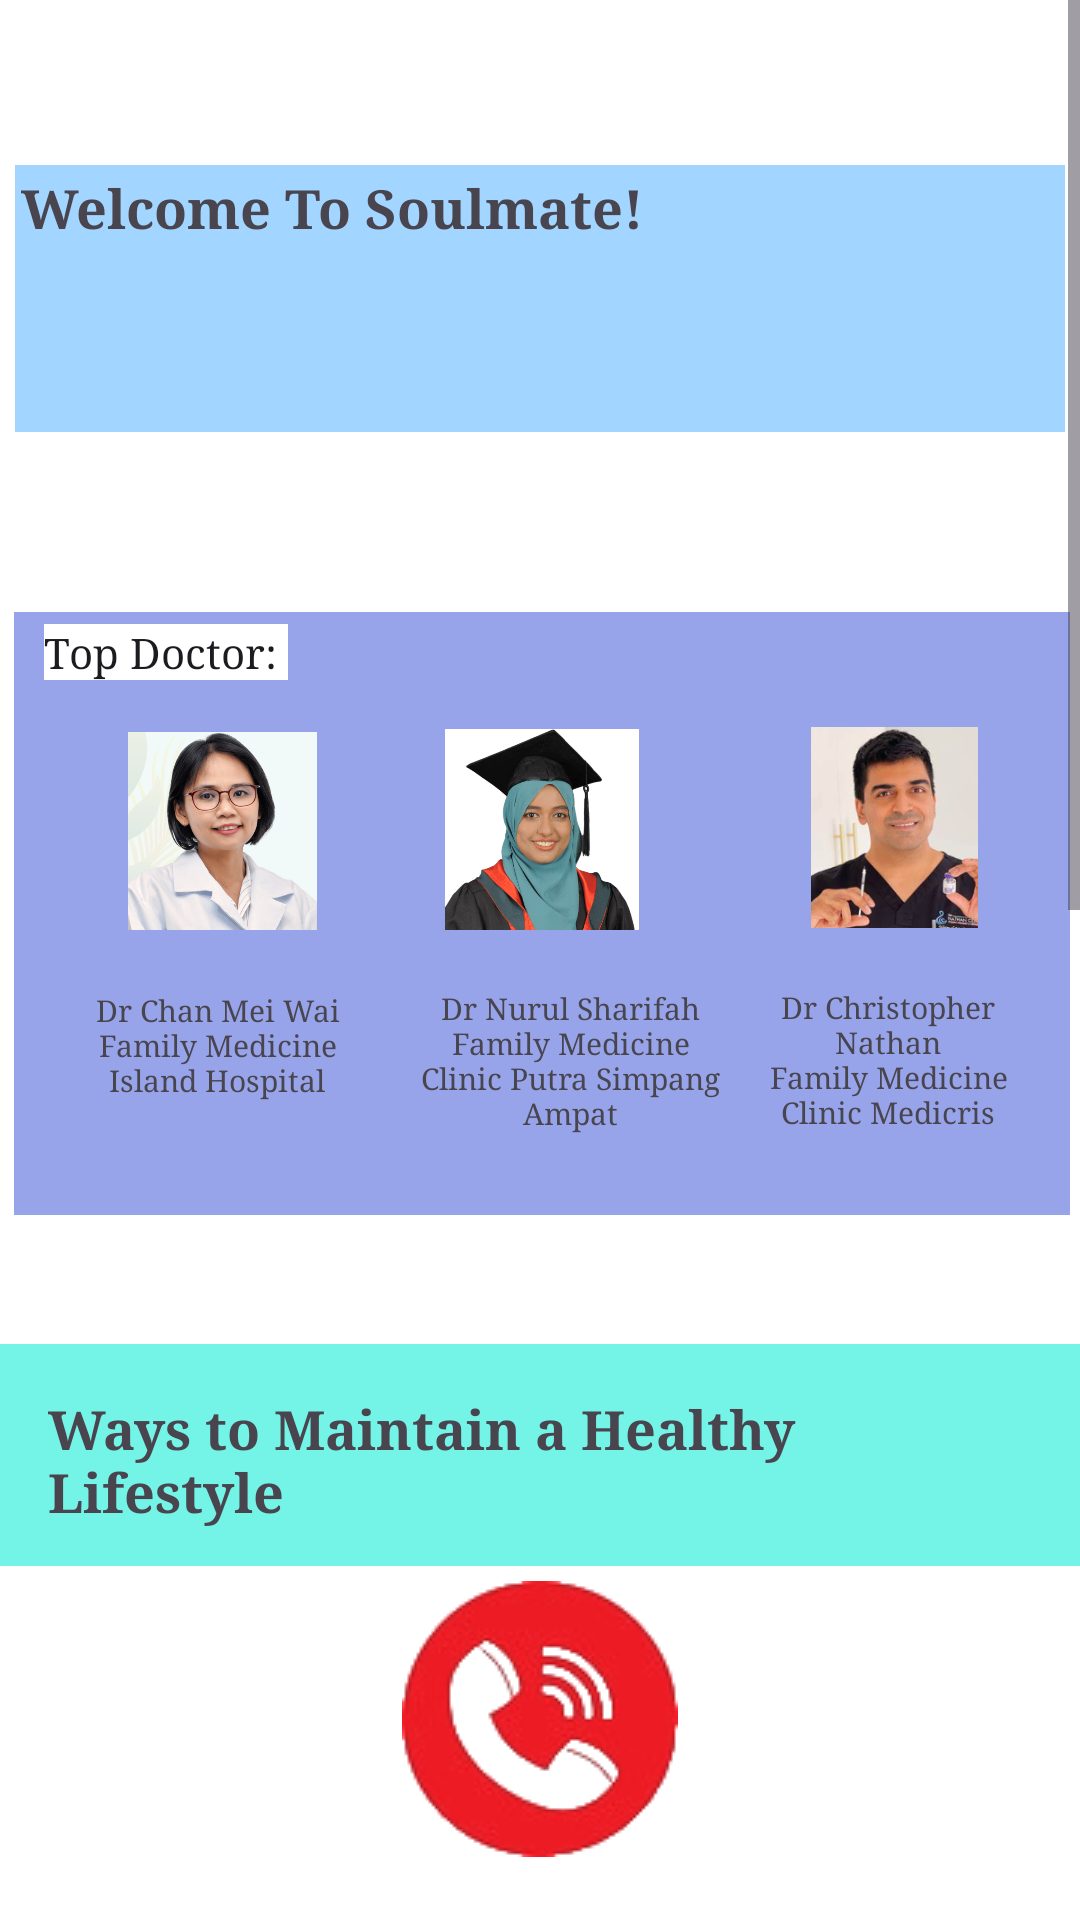

Icons on this 1080 × 1920 Android screen, each with the point to tap as point (x, y):
Emergency Call: point (540, 1719)
